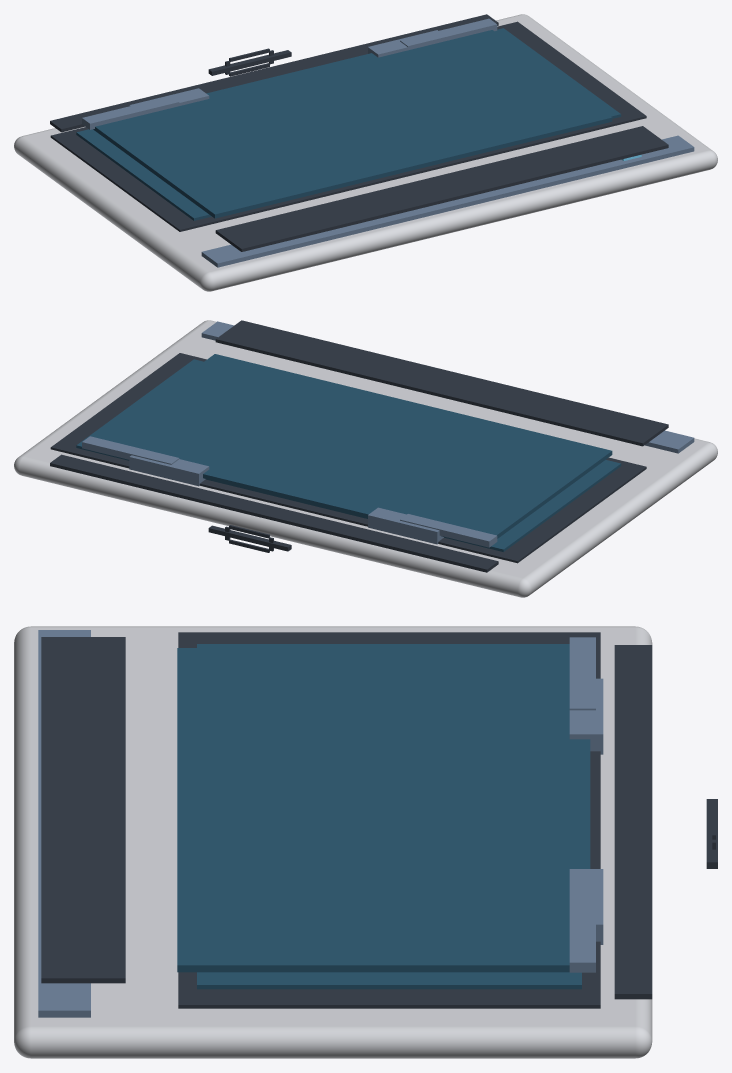
3 renders of one model, top to bottom at view 1: azimuth 30°, elevation 25°; view 2: azimuth 150°, elevation 25°; view 3: azimuth 270°, elevation 25°, orthographic. The views are drawn at different scales.
Parts seen in each view (by area): view 1: touch-surface, laptop-body, keyboard-strip, screen-bezel, laptop-accent, laptop-detail, screen-surface, hinge-rail-left, hinge-rail-right, hinge-right, power-port-back, hinge-left; view 2: touch-surface, laptop-body, keyboard-strip, screen-bezel, laptop-detail, screen-surface, hinge-right, hinge-left, hinge-rail-left, hinge-rail-right, laptop-accent, power-port-back; view 3: touch-surface, laptop-body, keyboard-strip, screen-bezel, laptop-detail, screen-surface, laptop-accent, hinge-rail-right, hinge-rail-left, hinge-left, hinge-right, power-port-back.
Boxes of the visible parts, x1,y1,x2,y2 form: touch-surface: [93, 30, 612, 218]; laptop-body: [14, 14, 717, 291]; keyboard-strip: [215, 126, 668, 251]; screen-bezel: [50, 21, 646, 231]; laptop-accent: [201, 135, 694, 267]; laptop-detail: [50, 14, 498, 132]; screen-surface: [76, 28, 621, 220]; hinge-rail-left: [82, 96, 179, 129]; hinge-rail-right: [400, 18, 497, 49]; hinge-right: [368, 30, 447, 57]; power-port-back: [208, 50, 291, 75]; hinge-left: [129, 88, 209, 111]; touch-surface: [89, 354, 612, 547]; laptop-body: [14, 320, 717, 597]; keyboard-strip: [215, 320, 668, 446]; screen-bezel: [50, 353, 646, 563]; laptop-detail: [50, 454, 498, 572]; screen-surface: [76, 359, 621, 551]; hinge-right: [129, 455, 209, 486]; hinge-left: [368, 507, 443, 544]; hinge-rail-left: [400, 514, 497, 547]; hinge-rail-right: [82, 436, 179, 464]; laptop-accent: [201, 321, 694, 453]; power-port-back: [208, 525, 291, 551]; touch-surface: [177, 648, 590, 972]; laptop-body: [14, 626, 652, 1058]; keyboard-strip: [41, 637, 125, 983]; screen-bezel: [178, 632, 600, 1008]; laptop-detail: [614, 645, 652, 999]; screen-surface: [197, 644, 581, 989]; laptop-accent: [38, 630, 90, 1017]; hinge-rail-right: [569, 891, 595, 972]; hinge-rail-left: [569, 637, 595, 710]; hinge-left: [569, 678, 603, 754]; hinge-right: [569, 869, 603, 944]; power-port-back: [706, 799, 717, 868].
Bounding box in the file's own units: 0.52 × 0.034 × 0.375.
